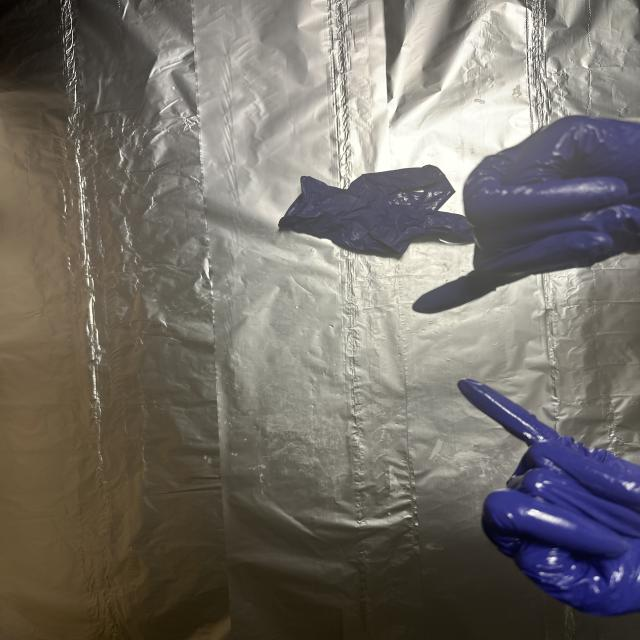gloves_contaminated: (414, 116, 640, 313), (458, 380, 640, 616)
